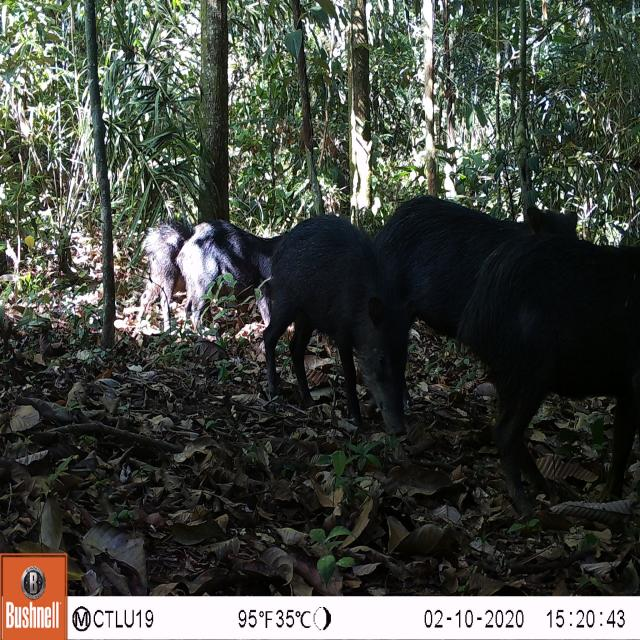White-lipped Peccary: (449, 228, 640, 516), (260, 214, 420, 443), (381, 191, 582, 338), (174, 208, 272, 342), (137, 215, 188, 341)
